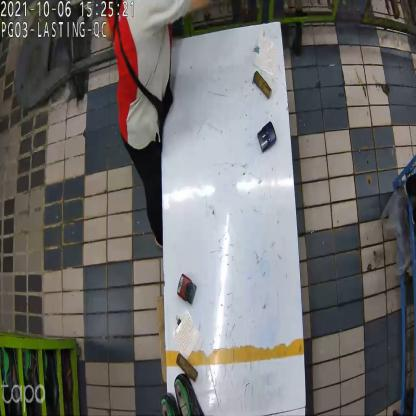stamp: (175, 272, 199, 310), (256, 121, 276, 156)
